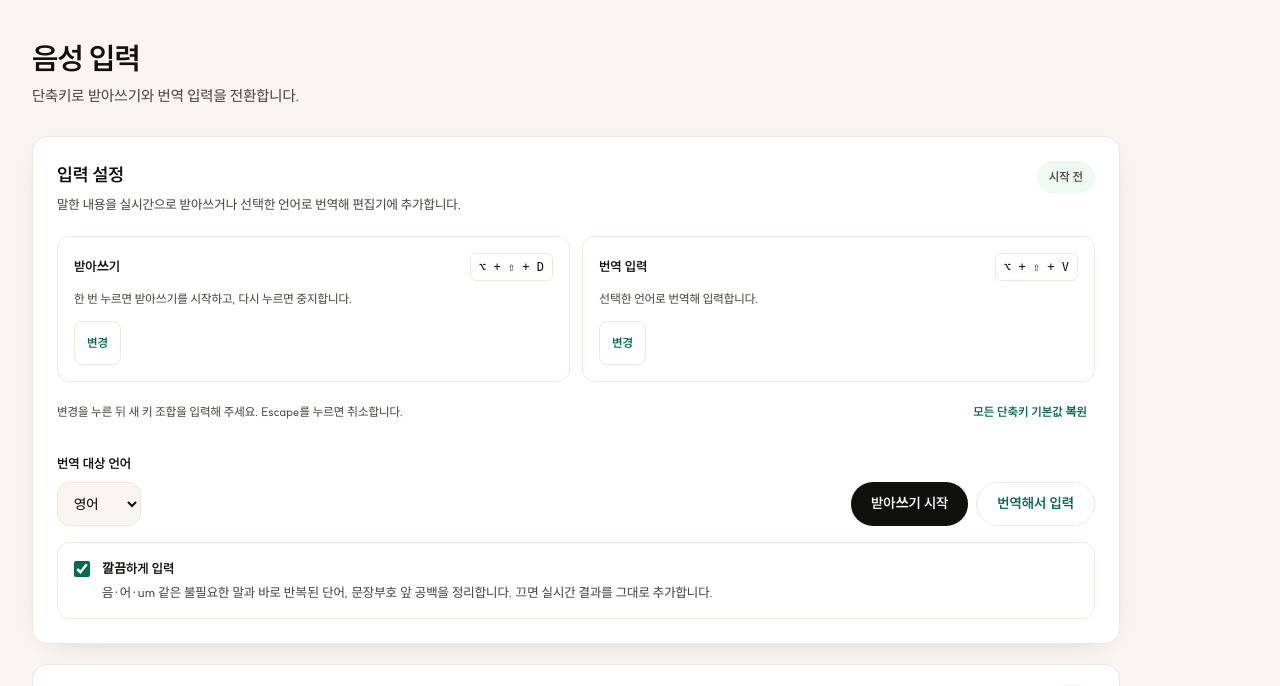
Test: SonioxWorkspaceClient › rejects a shortcut already assigned to another Soniox action
Click the button with aria-label "받아쓰기 단축키: 변경" at point(98, 343), box [74,321,121,365]
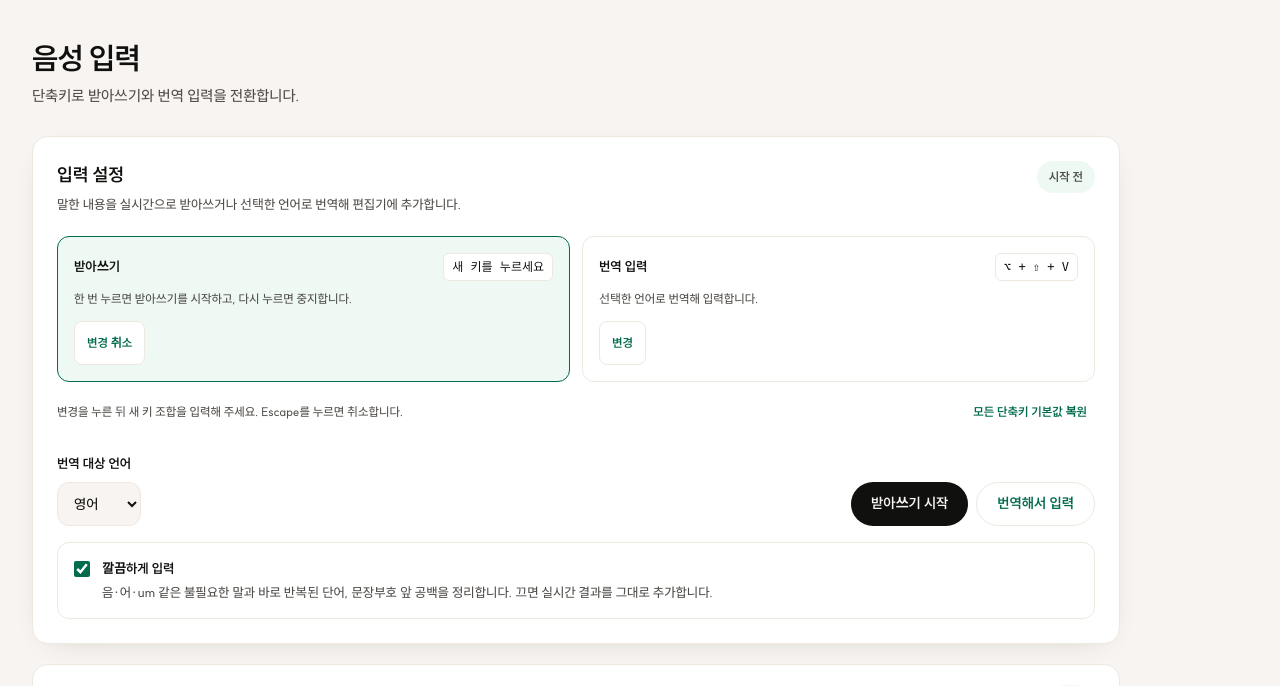
Press t
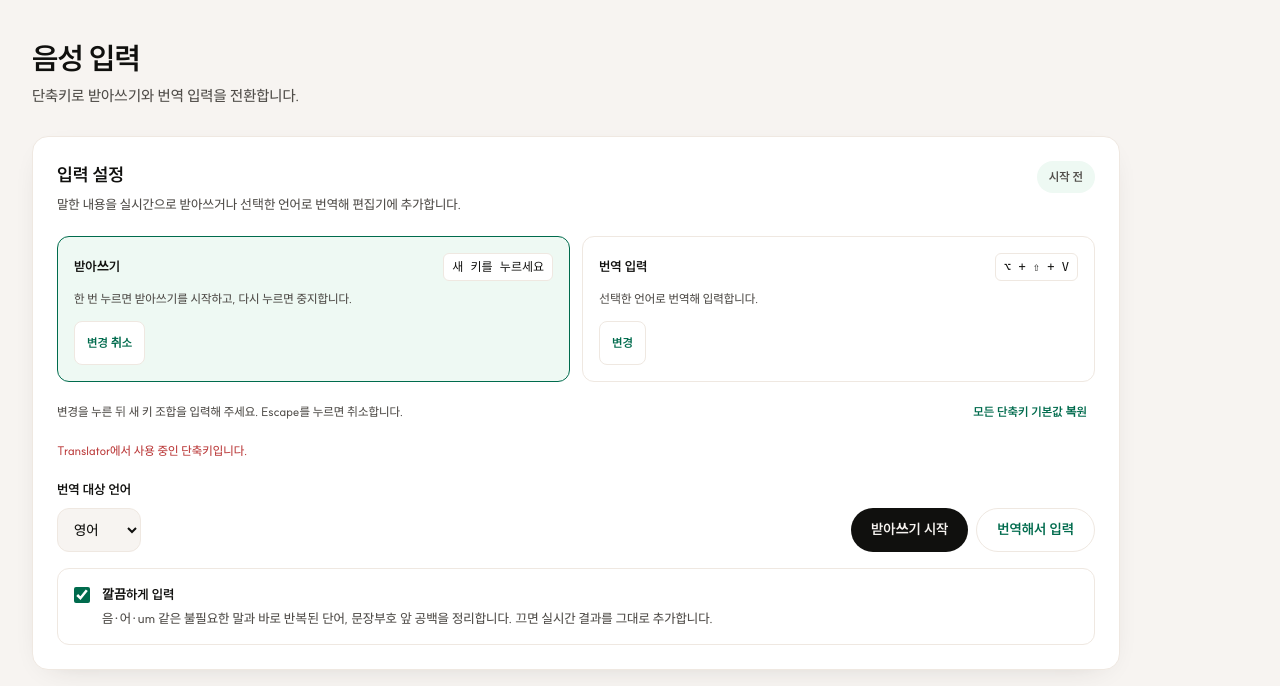
Check: the message "Translator에서 사용 중인 단축키입니다." is shown, box [57,443,248,458]
Click the button with aria-label "받아쓰기 단축키: 변경 취소" at point(110, 343), box [74,321,145,365]
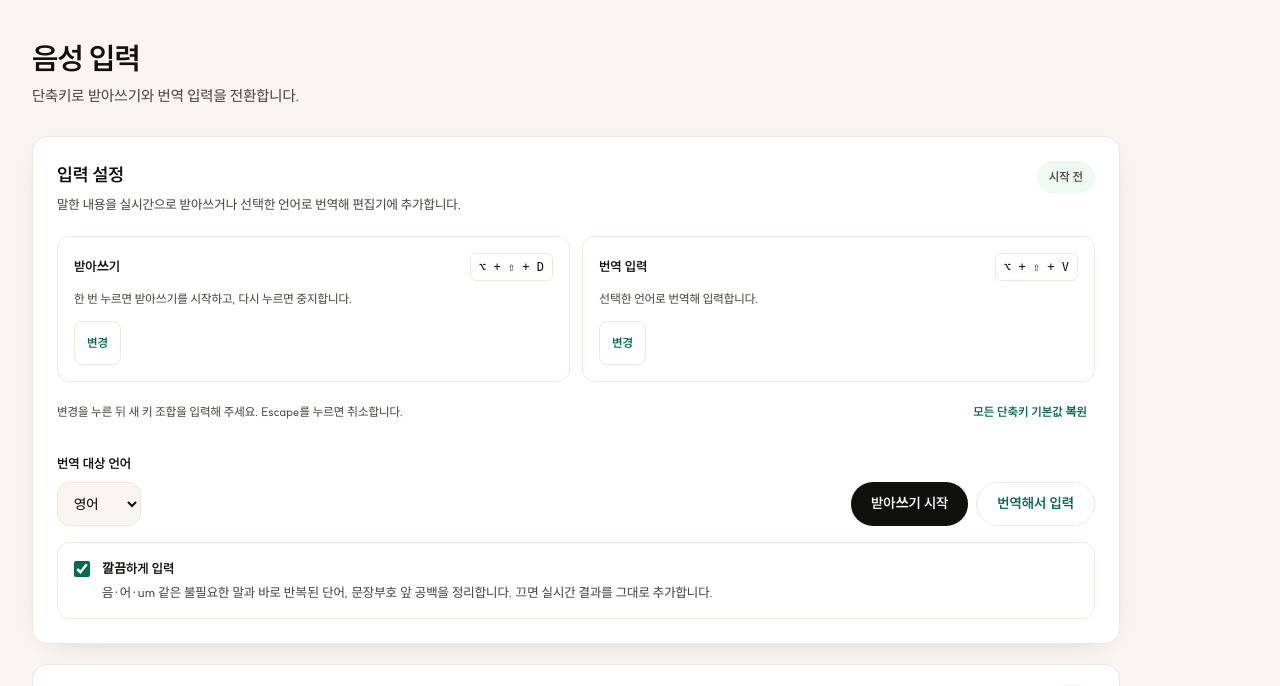
Check: the text "⌥ + ⇧ + D" is shown, box [470,253,553,281]
